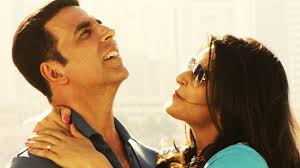Bad: (1, 1, 300, 168)
